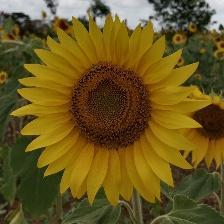sunflower: (28, 24, 202, 194)
